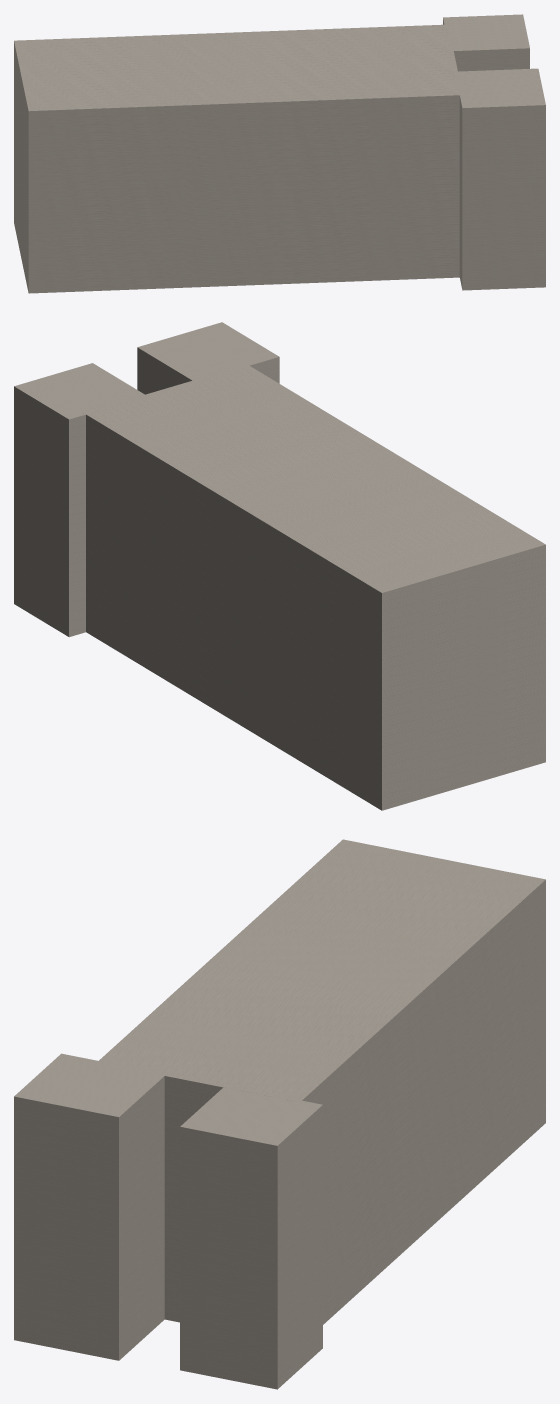
File: university_hall.fbx
3 renders of one model, top to bottom at view 1: azimuth 30°, elevation 25°; view 2: azimuth 150°, elevation 25°; view 3: azimuth 270°, elevation 25°, orthographic. The views are drawn at different scales.
Visible parts, largest first — view 1: pCube3, pCube5, pCube4; view 2: pCube3, pCube4, pCube5; view 3: pCube3, pCube5, pCube4.
Part boxes in pixels (left/top/right/bottom): pCube3: left=14, top=24, right=462, bottom=293; pCube5: left=455, top=68, right=545, bottom=290; pCube4: left=443, top=14, right=529, bottom=71; pCube3: left=84, top=364, right=545, bottom=810; pCube4: left=14, top=363, right=144, bottom=637; pCube5: left=137, top=322, right=279, bottom=394; pCube3: left=99, top=839, right=545, bottom=1324; pCube5: left=14, top=1053, right=165, bottom=1360; pCube4: left=180, top=1087, right=322, bottom=1389.
Size of the model in its own units: 80.93 by 30 by 59.37.
1 material, 1 textured.
